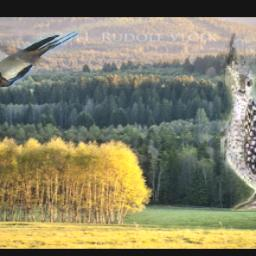Swallow: (0, 31, 78, 87)
Woodpecker: (220, 33, 256, 211)
